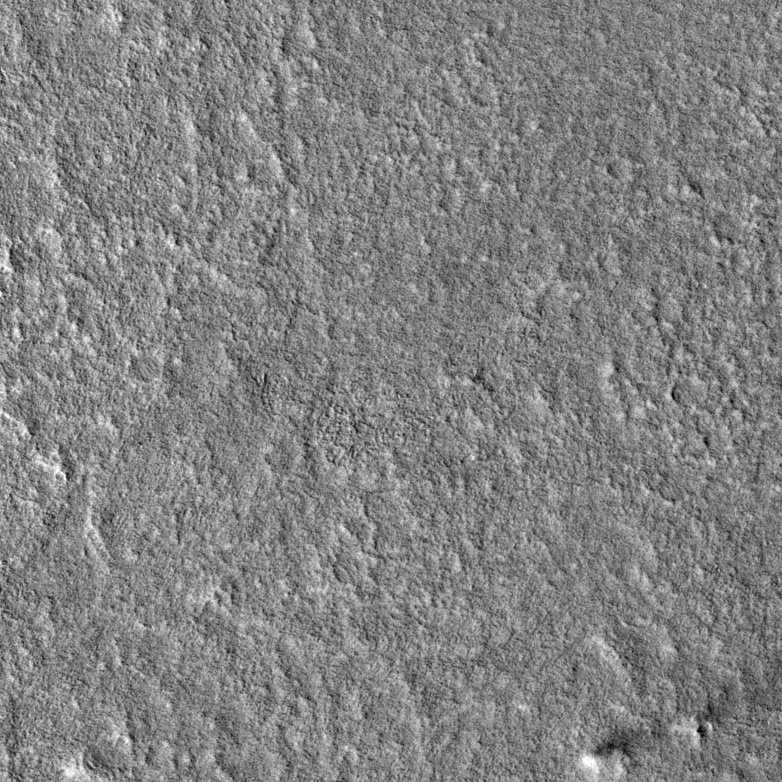dust_devil: (580, 729, 651, 776)
